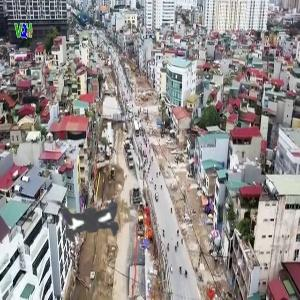drone: (23, 150, 168, 295)
